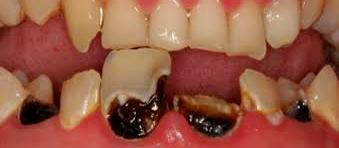Caries: (100, 60, 175, 144), (175, 86, 241, 148), (12, 86, 63, 129), (273, 86, 317, 130)
